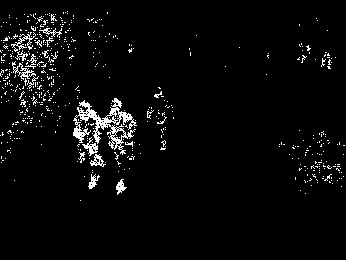person: (103, 95, 138, 195), (71, 99, 104, 191), (147, 84, 175, 152)
